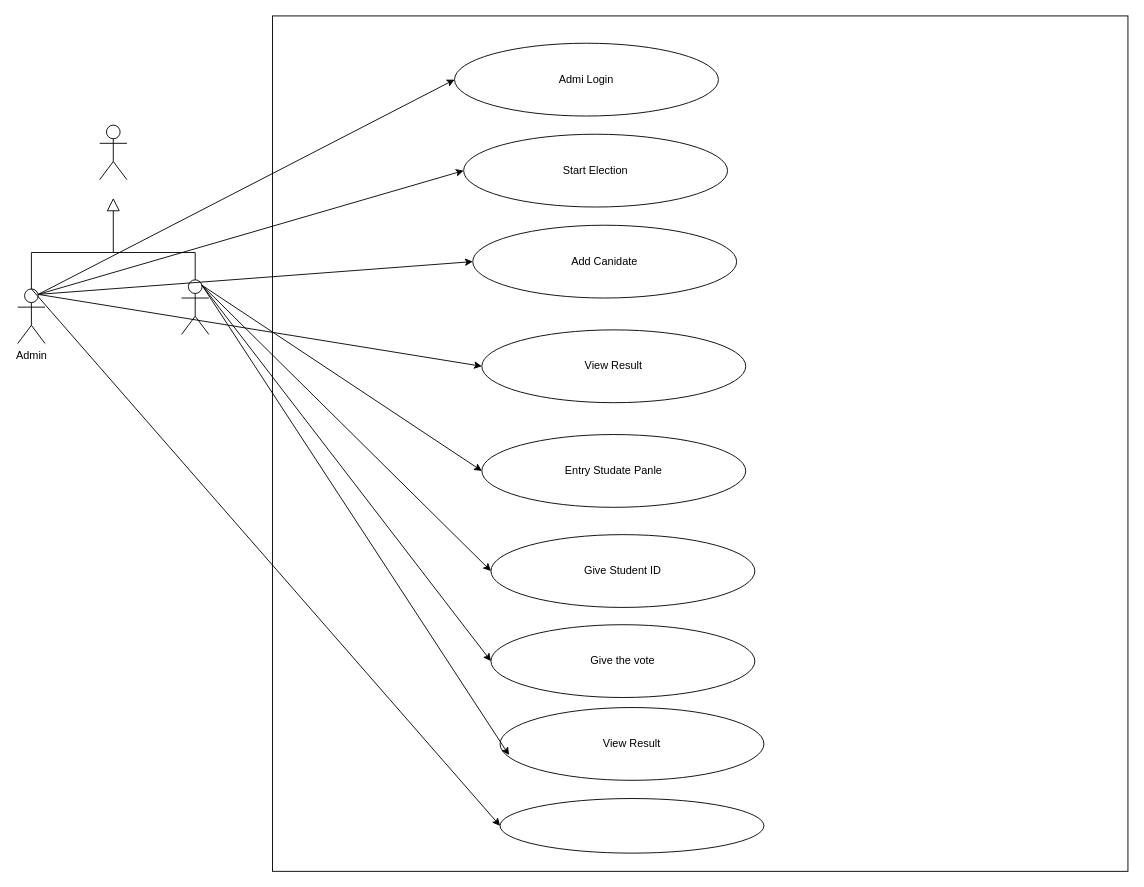
This 1144x887 diagram has some shape labels left out. Here are the shapes that lost their labels. From the top down, the centre of each, then its label:
At (x=113, y=152): "User".
At (x=195, y=306): "Student".
At (x=631, y=825): "Log Out".
